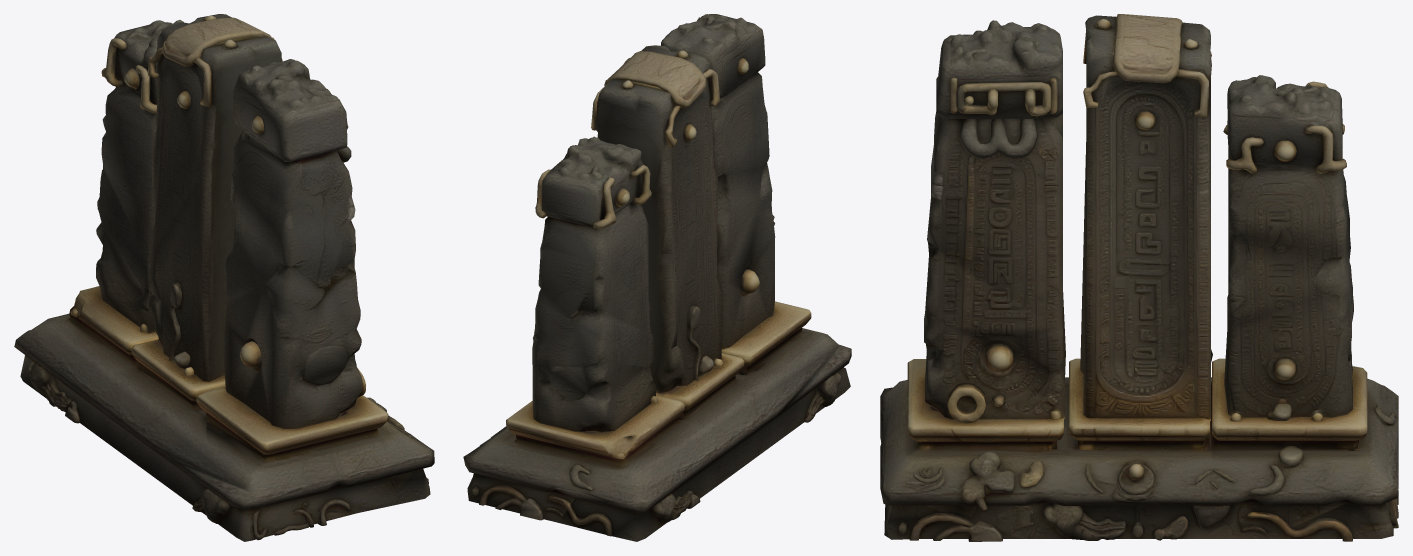
The model's file is ch2_voice_below_tablet_wall.glb.
3 views of the same model, side by side, from view 1: azimuth 30°, elevation 25°; view 2: azimuth 150°, elevation 25°; view 3: azimuth 270°, elevation 25° (orthographic). The views are drawn at different scales.
Parts seen in each view (by area): view 1: tripo_node_839c6332-e342-46e1-a384-716f313c721f; view 2: tripo_node_839c6332-e342-46e1-a384-716f313c721f; view 3: tripo_node_839c6332-e342-46e1-a384-716f313c721f.
Boxes of the visible parts, bbox=[...] form: tripo_node_839c6332-e342-46e1-a384-716f313c721f: bbox=[14, 14, 434, 541]; tripo_node_839c6332-e342-46e1-a384-716f313c721f: bbox=[463, 14, 851, 541]; tripo_node_839c6332-e342-46e1-a384-716f313c721f: bbox=[880, 14, 1398, 541].
Size of the model in its own units: 0.5254 by 0.9863 by 0.998.
Materials: 1 (1 with a texture image).
